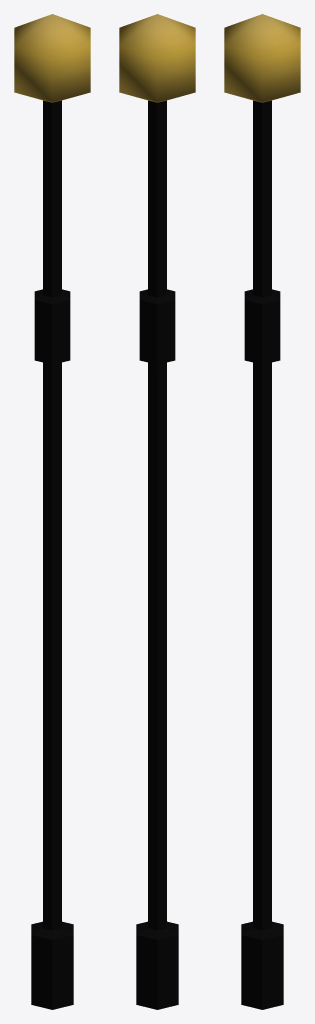
The model's file is LampPole_Long_Yellow.fbx.
3 renders of one model, left to right at view 1: azimuth 90°, elevation 25°; view 2: azimuth 150°, elevation 25°; view 3: azimuth 270°, elevation 25°, orthographic.
Visible parts, largest first — view 1: LampPole_Long_Yellow; view 2: LampPole_Long_Yellow; view 3: LampPole_Long_Yellow.
Boxes of the visible parts, left/top/right/bottom form: LampPole_Long_Yellow: left=14, top=14, right=90, bottom=1009; LampPole_Long_Yellow: left=119, top=14, right=195, bottom=1009; LampPole_Long_Yellow: left=224, top=14, right=300, bottom=1009.
Bounding box in the file's own units: 16.11 × 199 × 13.95.
